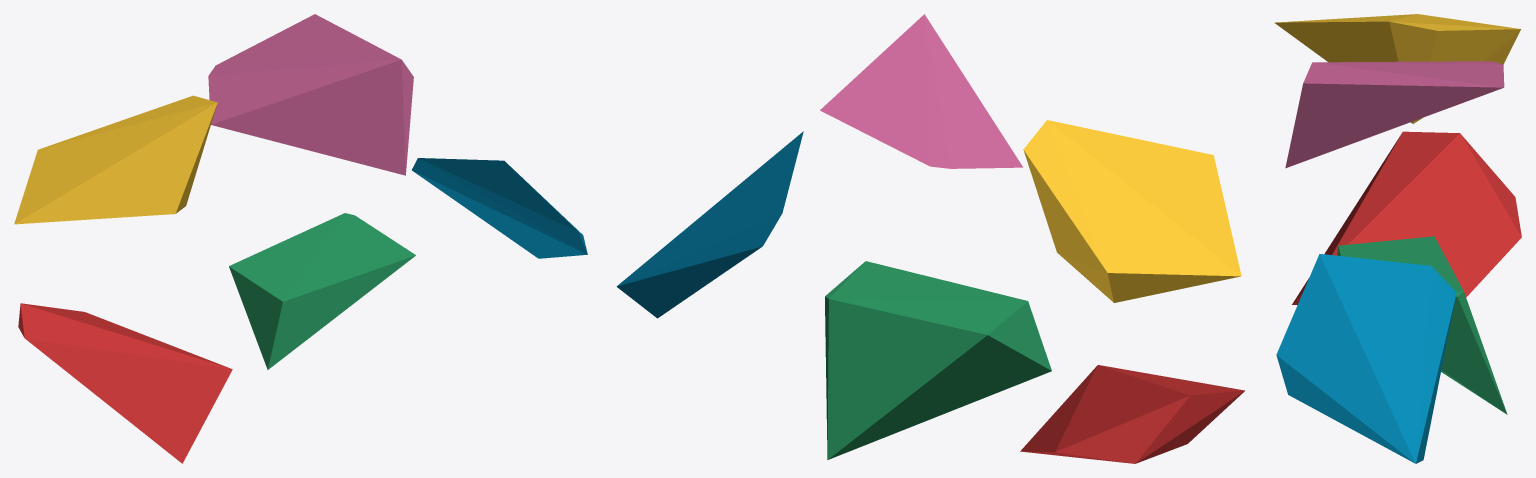
Rendered from decahedra.obj.
3 views of the same model, side by side, from view 1: azimuth 30°, elevation 25°; view 2: azimuth 150°, elevation 25°; view 3: azimuth 270°, elevation 25° (orthographic). The views are drawn at different scales.
Parts seen in each view (by area): view 1: [3, 3, 4, 4, 4, 6, 6], [3, 3, 3, 5, 5, 5, 6], [4, 4, 4, 4, 4, 5, 5], [3, 4, 4, 4, 5, 5, 5], [3, 3, 4, 4, 5, 5, 6]; view 2: [3, 4, 4, 4, 5, 5, 5], [3, 3, 3, 5, 5, 5, 6], [3, 3, 4, 4, 4, 6, 6], [4, 4, 4, 4, 4, 5, 5], [3, 3, 4, 4, 5, 5, 6]; view 3: [3, 3, 4, 4, 5, 5, 6], [4, 4, 4, 4, 4, 5, 5], [3, 3, 4, 4, 4, 6, 6], [3, 3, 3, 5, 5, 5, 6], [3, 4, 4, 4, 5, 5, 5].
Part boxes in pixels (x1=…): [3, 3, 4, 4, 4, 6, 6]: x1=208, y1=14, x2=413, y2=175; [3, 3, 3, 5, 5, 5, 6]: x1=14, y1=95, x2=217, y2=224; [4, 4, 4, 4, 4, 5, 5]: x1=18, y1=303, x2=232, y2=463; [3, 4, 4, 4, 5, 5, 5]: x1=229, y1=213, x2=415, y2=369; [3, 3, 4, 4, 5, 5, 6]: x1=412, y1=158, x2=587, y2=258; [3, 4, 4, 4, 5, 5, 5]: x1=825, y1=261, x2=1051, y2=459; [3, 3, 3, 5, 5, 5, 6]: x1=1023, y1=120, x2=1241, y2=302; [3, 3, 4, 4, 4, 6, 6]: x1=820, y1=14, x2=1023, y2=168; [4, 4, 4, 4, 4, 5, 5]: x1=1020, y1=365, x2=1244, y2=463; [3, 3, 4, 4, 5, 5, 6]: x1=616, y1=131, x2=803, y2=318; [3, 3, 4, 4, 5, 5, 6]: x1=1276, y1=254, x2=1456, y2=463; [4, 4, 4, 4, 4, 5, 5]: x1=1292, y1=131, x2=1521, y2=305; [3, 3, 4, 4, 4, 6, 6]: x1=1285, y1=61, x2=1504, y2=168; [3, 3, 3, 5, 5, 5, 6]: x1=1274, y1=14, x2=1520, y2=123; [3, 4, 4, 4, 5, 5, 5]: x1=1337, y1=236, x2=1507, y2=414.
Bounding box in the file's own units: 5.44 × 3.12 × 1.94.
